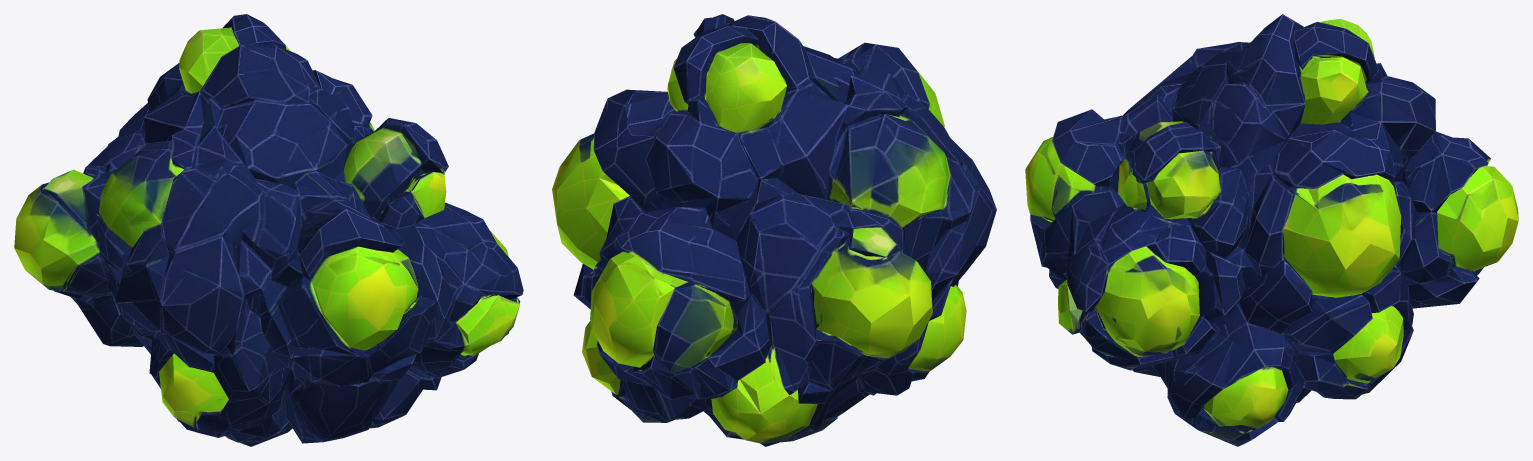
Rendered from c28c370c-6761-4aab-9527-2bfd198e9271_part_30_optimized.glb.
3 renders of one model, left to right at view 1: azimuth 30°, elevation 25°; view 2: azimuth 150°, elevation 25°; view 3: azimuth 270°, elevation 25°, orthographic. The views are drawn at different scales.
Visible parts, largest first — view 1: output_unwrapped; view 2: output_unwrapped; view 3: output_unwrapped.
Part boxes in pixels (bbox=[...]): output_unwrapped: bbox=[14, 14, 523, 446]; output_unwrapped: bbox=[552, 14, 996, 446]; output_unwrapped: bbox=[1025, 14, 1518, 446].
Size of the model in its own units: 1.63 by 1.62 by 1.9.
1 material, 1 textured.
